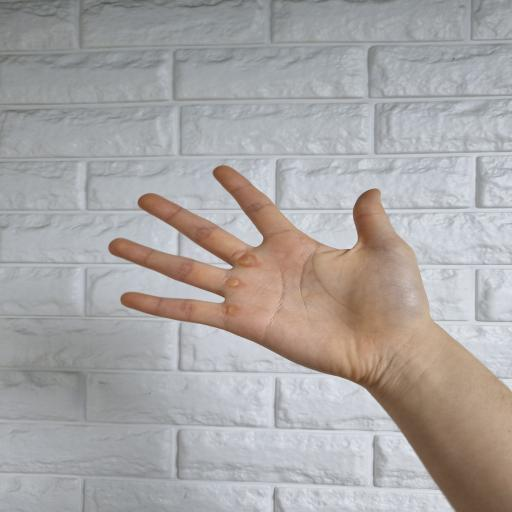Paper: (108, 165, 444, 387)
